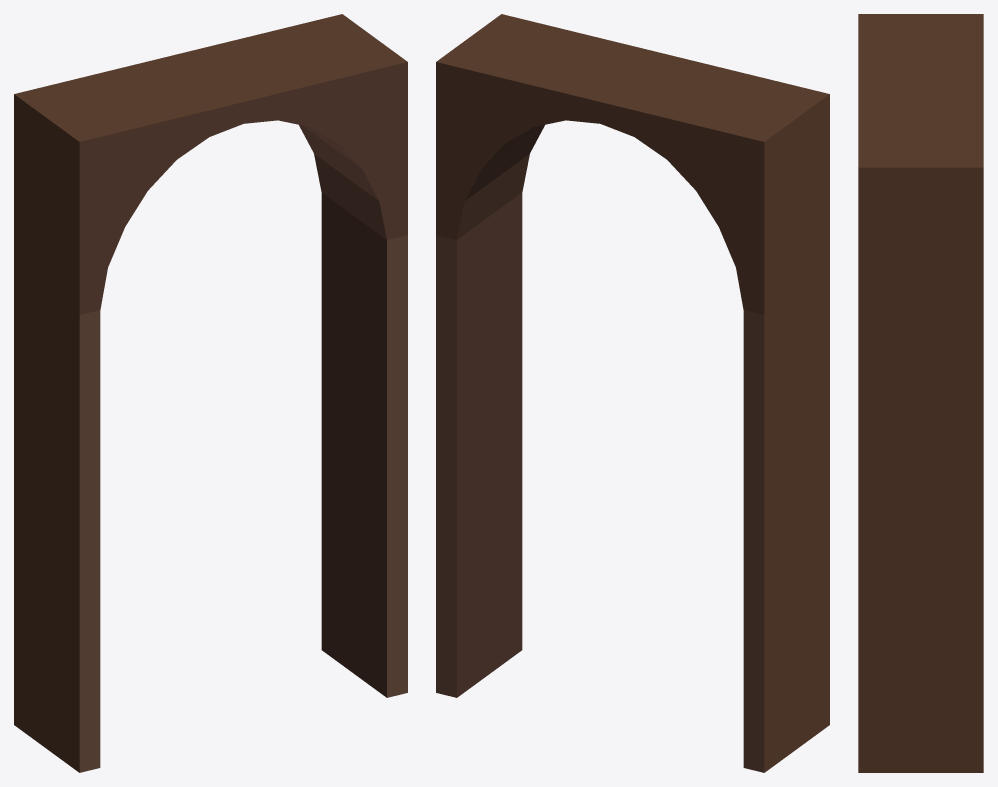
Rendered from Wall_HomeA-DoorThresholdB.fbx.
The picture shows the model from 3 angles, left to right: view 1: azimuth 30°, elevation 25°; view 2: azimuth 150°, elevation 25°; view 3: azimuth 270°, elevation 25°; orthographic projection. The views are drawn at different scales.
Parts seen in each view (by area): view 1: Wall_HomeA-DoorThresholdB; view 2: Wall_HomeA-DoorThresholdB; view 3: Wall_HomeA-DoorThresholdB.
Part boxes in pixels (x1=…): Wall_HomeA-DoorThresholdB: x1=14, y1=14, x2=407, y2=772; Wall_HomeA-DoorThresholdB: x1=436, y1=14, x2=829, y2=772; Wall_HomeA-DoorThresholdB: x1=858, y1=14, x2=983, y2=772.
Size of the model in its own units: 138 by 252 by 47.5.
